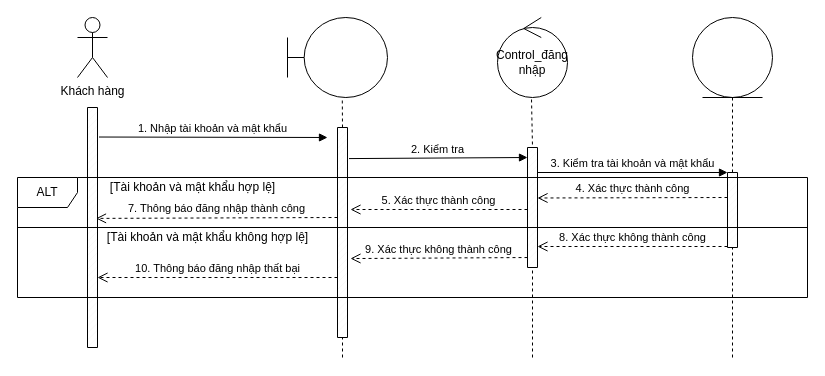
Some shapes in this 825 by 376 pixel diagram are drawn without their labels. Here are the shapes that lost their labels. From the top down, the centre of each, then its label:
the point at 337,57: Form đăng nhập
the point at 732,57: CSDL_Tài khoản
